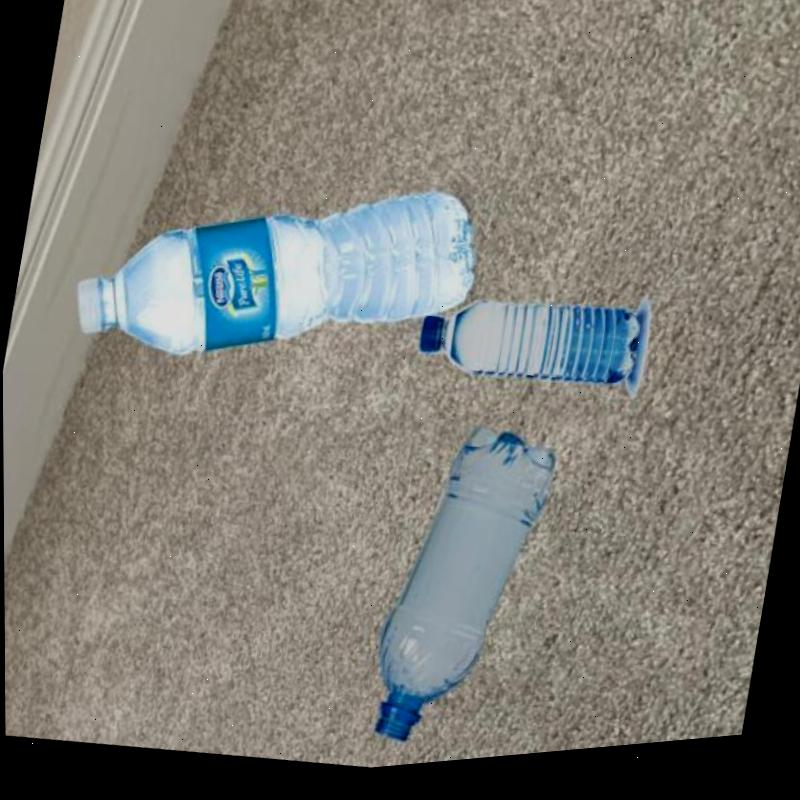botella: (60, 135, 488, 414), (366, 418, 563, 768), (409, 285, 643, 420)
